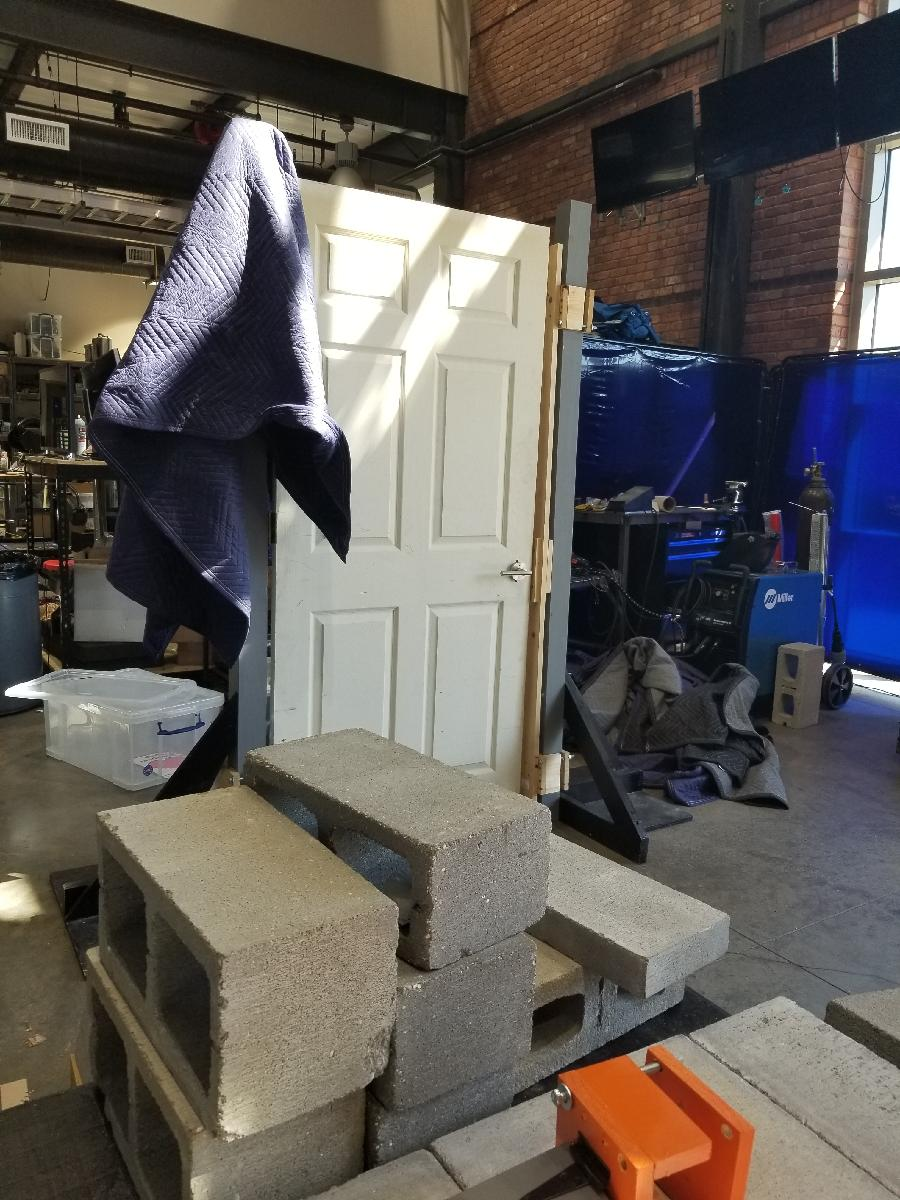door: (259, 168, 552, 882)
doorHandle: (494, 557, 534, 589)
